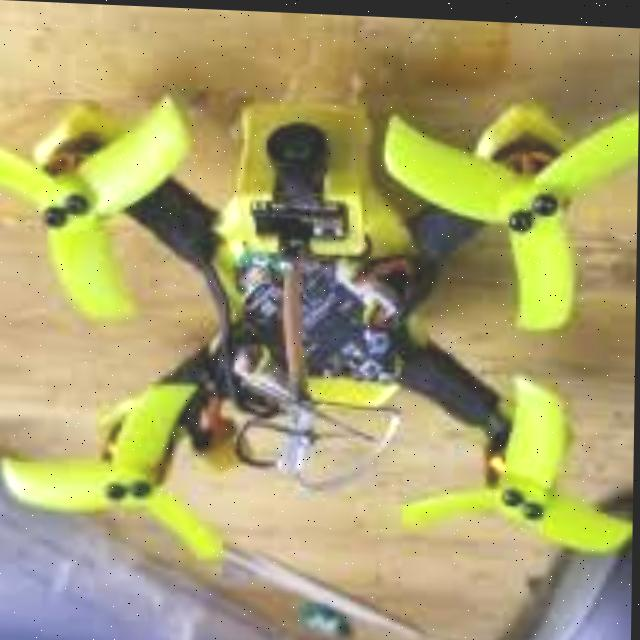drone: (0, 52, 639, 590)
